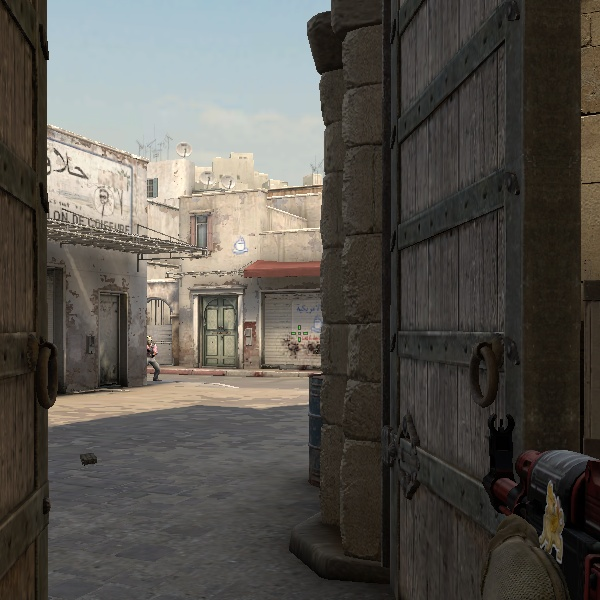t_body: (145, 335, 162, 383)
t_head: (147, 336, 153, 346)
